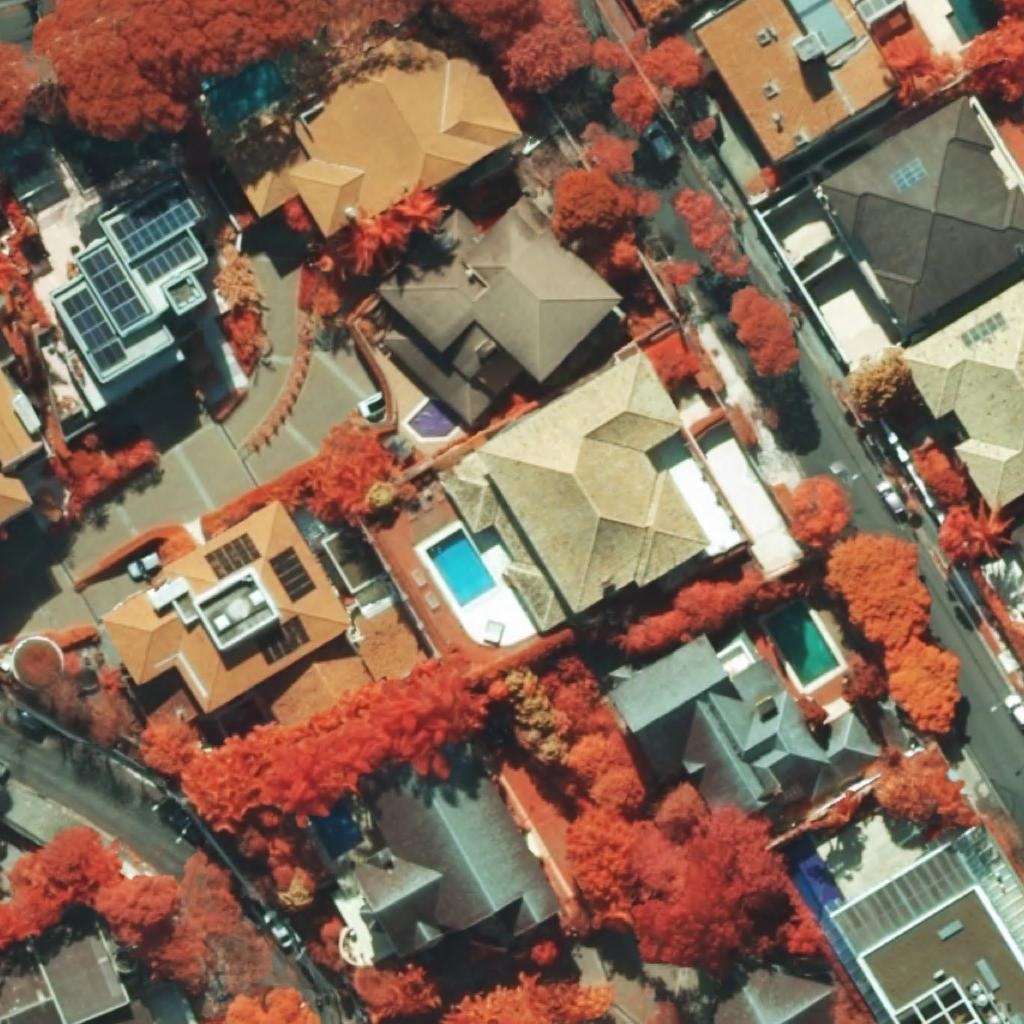pool: (764, 600, 840, 687), (201, 58, 291, 131), (426, 528, 498, 608), (784, 835, 842, 924), (310, 799, 364, 860), (945, 0, 1005, 46), (407, 398, 461, 437)
